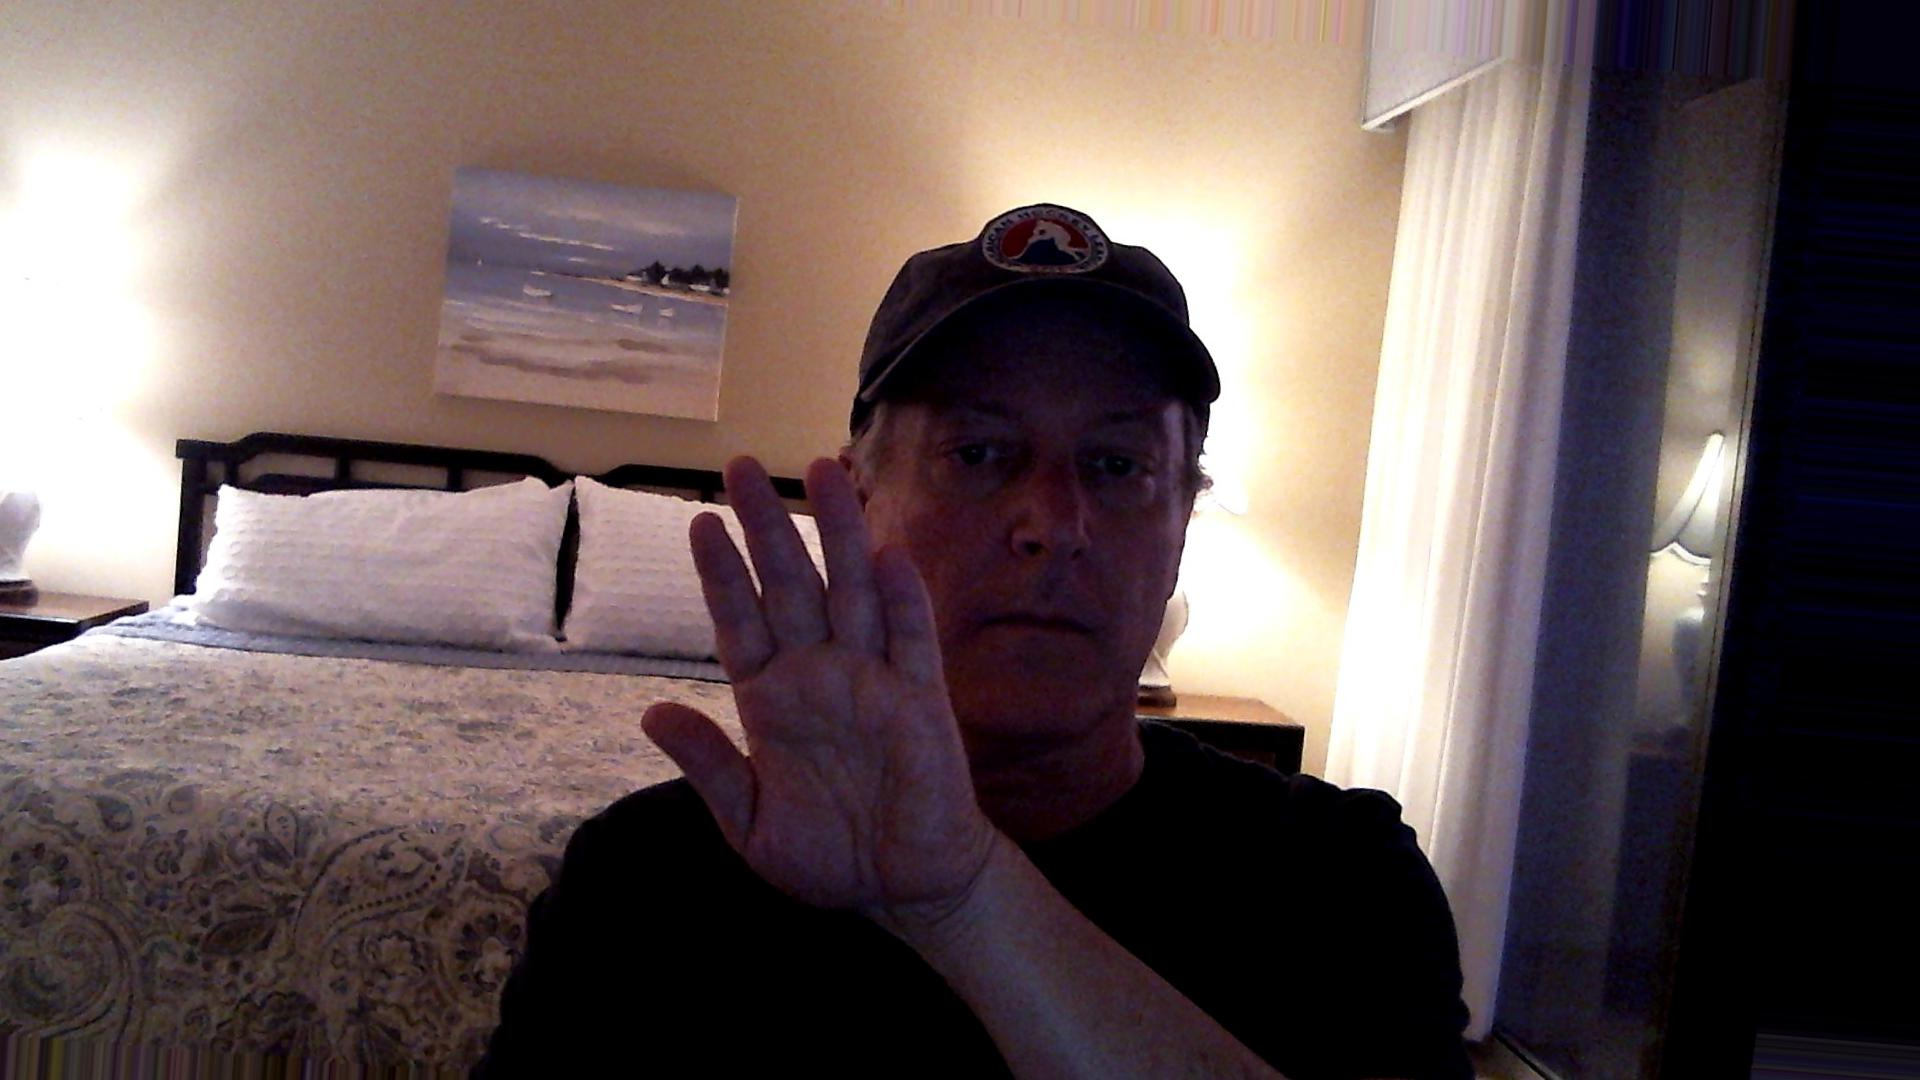Hello: (633, 433, 1040, 924)
